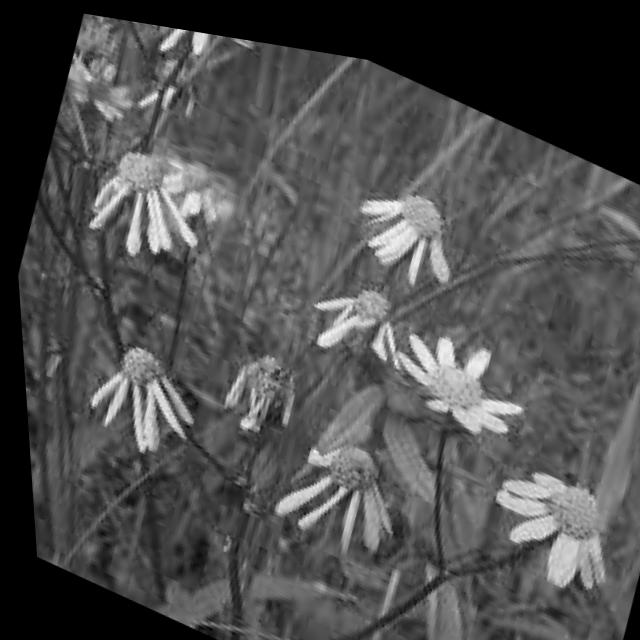Flower: (467, 418, 625, 594), (65, 126, 224, 288), (270, 409, 419, 569), (377, 295, 536, 441), (80, 318, 223, 479), (331, 144, 479, 295), (289, 253, 421, 375), (127, 16, 283, 97), (212, 327, 307, 446), (142, 132, 247, 236), (66, 44, 144, 126)
